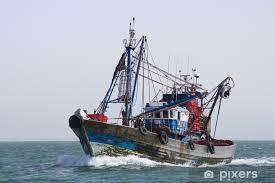fishing boat: (65, 16, 239, 168)
